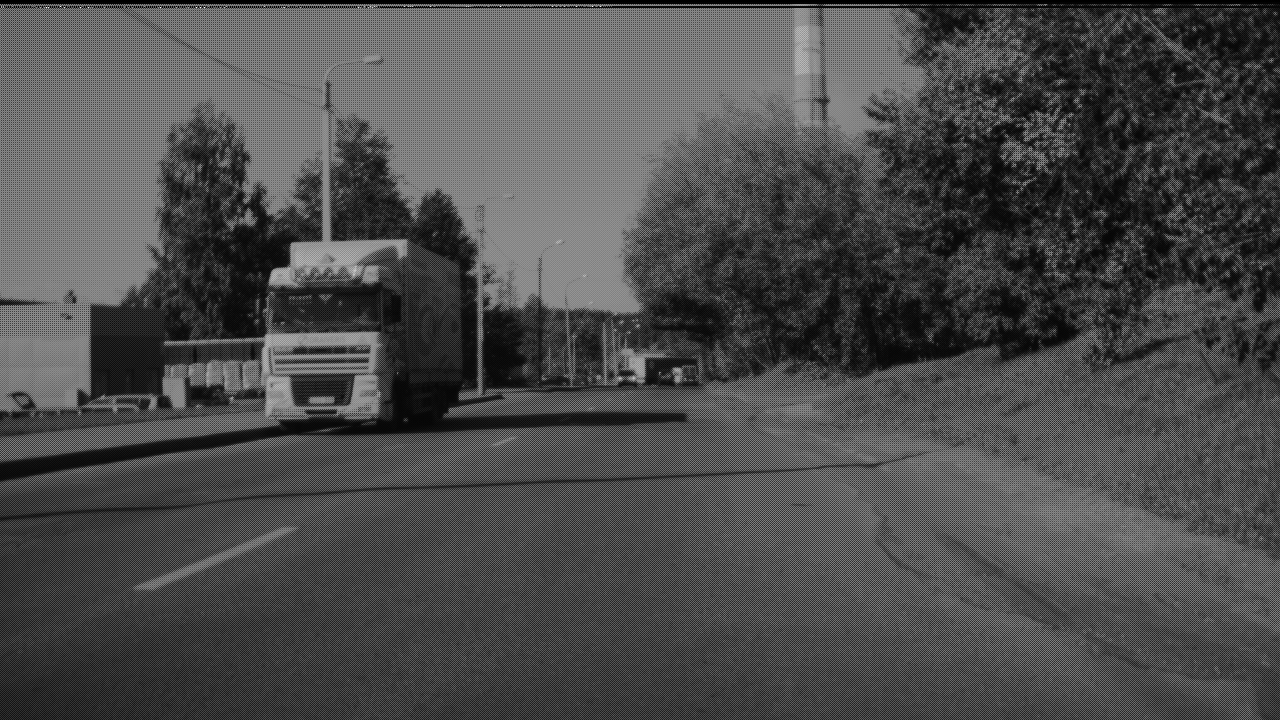pole: (795, 197, 804, 386), (948, 103, 958, 233)
